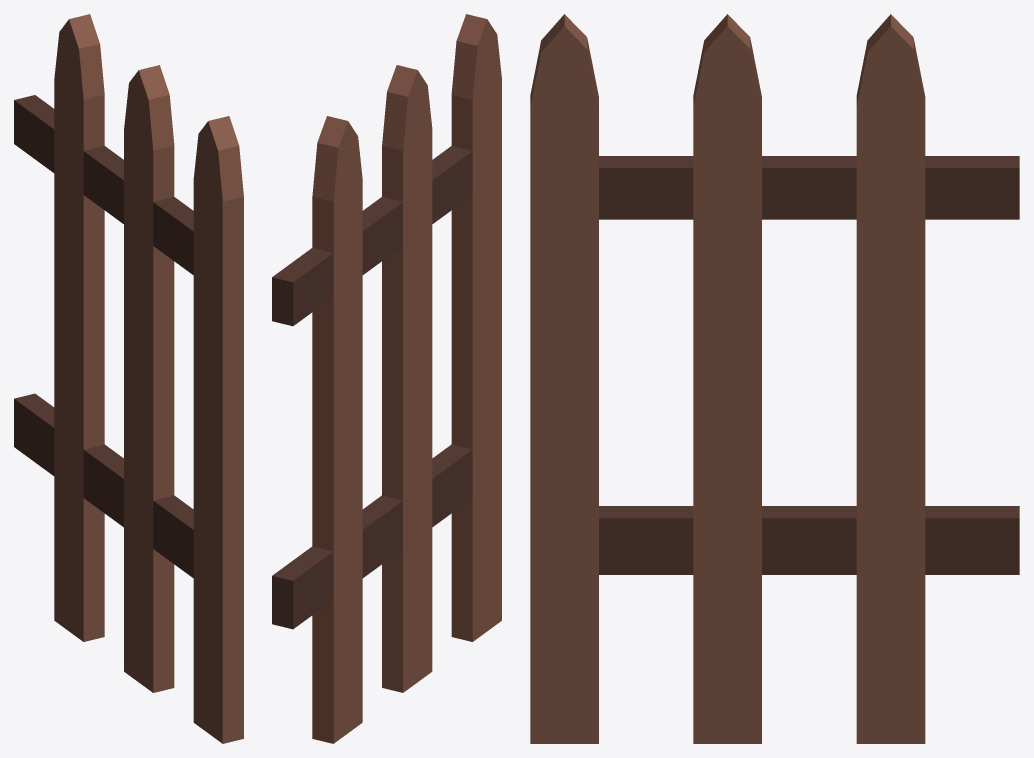
File: CercaEsq.fbx
The picture shows the model from 3 angles, left to right: view 1: azimuth 30°, elevation 25°; view 2: azimuth 150°, elevation 25°; view 3: azimuth 270°, elevation 25°; orthographic projection. The views are drawn at different scales.
Parts seen in each view (by area): view 1: Esquerda; view 2: Esquerda; view 3: Esquerda.
Boxes of the visible parts, x1,y1,x2,y2 form: Esquerda: (14, 14, 243, 743); Esquerda: (272, 14, 501, 743); Esquerda: (530, 14, 1019, 743).
Size of the model in its own units: 12.3 by 340 by 210.
